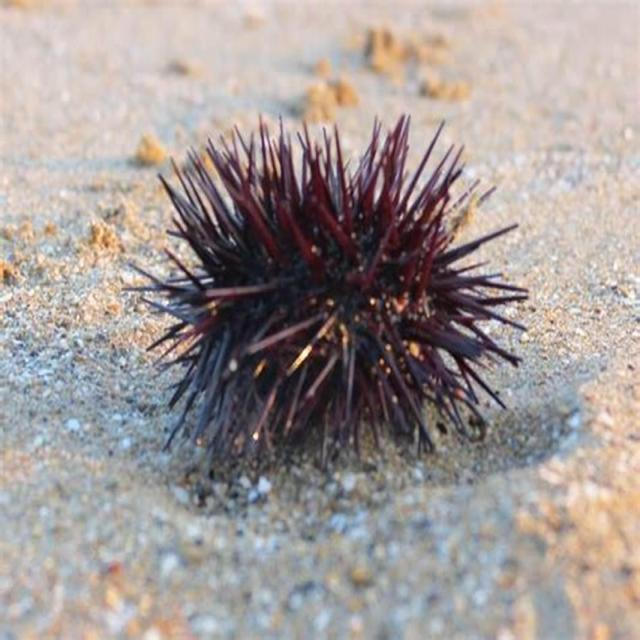Urchin: (162, 123, 514, 454)
